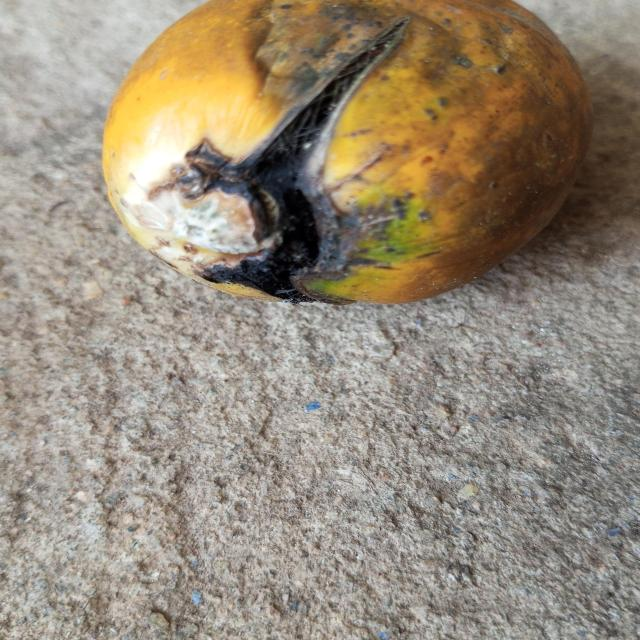damaged: (103, 0, 591, 305)
